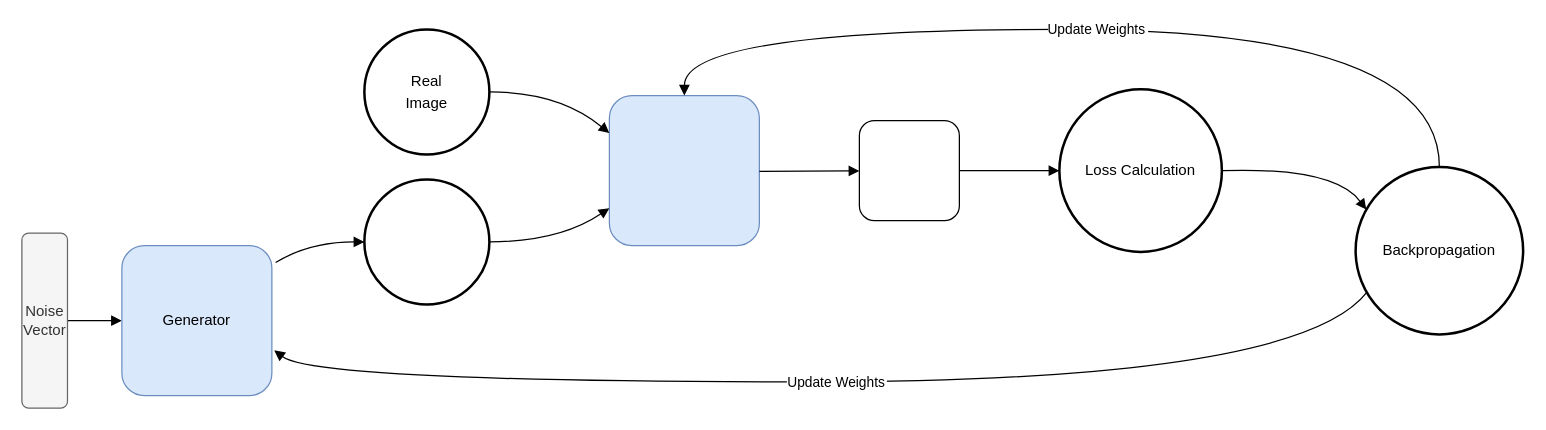
Some shapes in this 1546 by 430 pixel diagram are drawn without their labels. The centre of each missing label's shape, as x and y in pixels:
"Discriminator" belongs at point (683, 170).
"Generated Image" belongs at point (426, 241).
"Real or Fake" belongs at point (908, 170).
